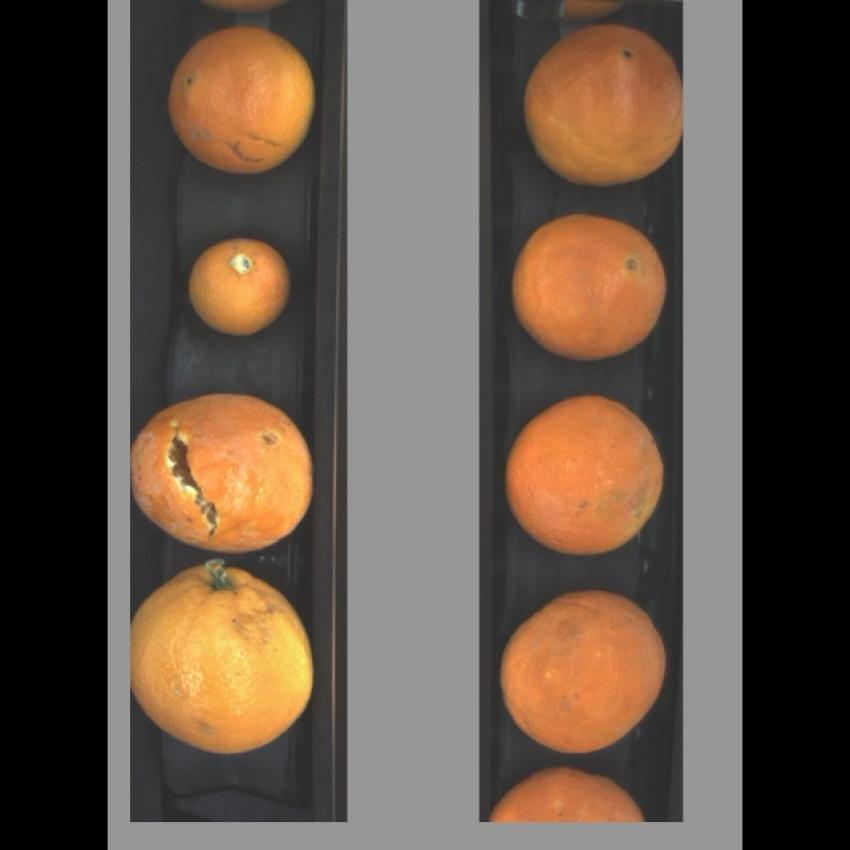Mal estado: (130, 563, 319, 758), (131, 385, 318, 553), (496, 587, 680, 757), (517, 22, 687, 193), (496, 389, 673, 552), (159, 22, 319, 180), (508, 210, 676, 354), (182, 237, 303, 343), (487, 763, 650, 825)
